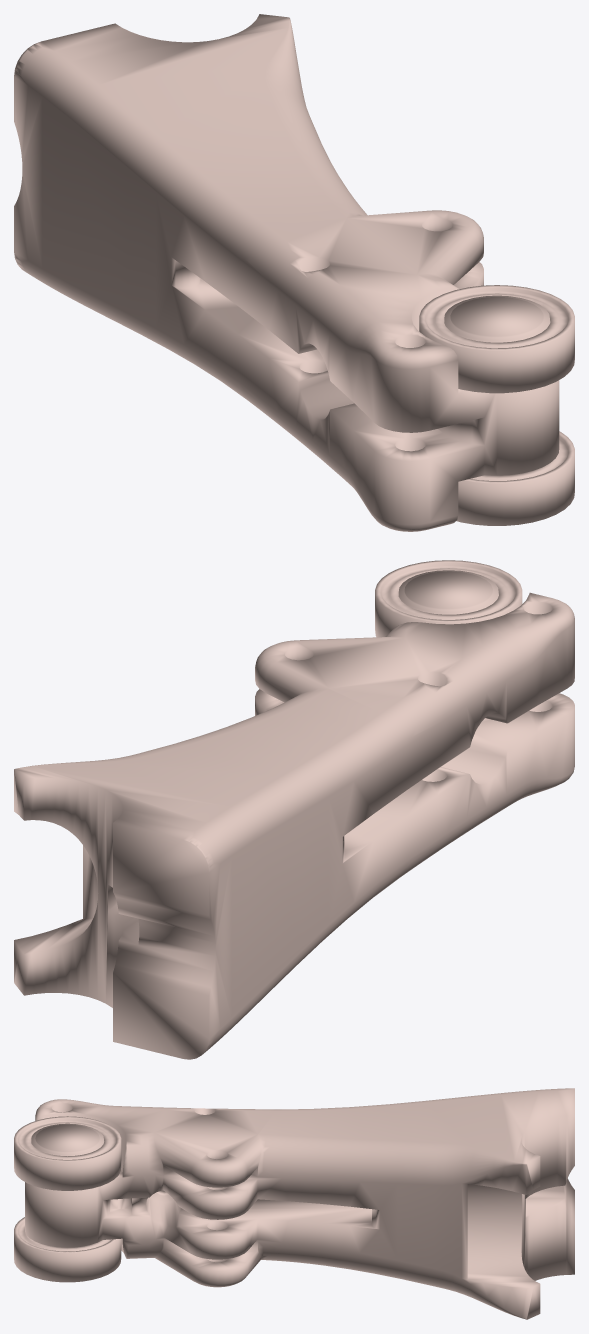
Rendered from middle_plp_1.obj.
3 views of the same model, one above another, from view 1: azimuth 30°, elevation 25°; view 2: azimuth 150°, elevation 25°; view 3: azimuth 270°, elevation 25° (orthographic). The views are drawn at different scales.
Size of the model in its own units: 18.57 by 16.4 by 52.24.
